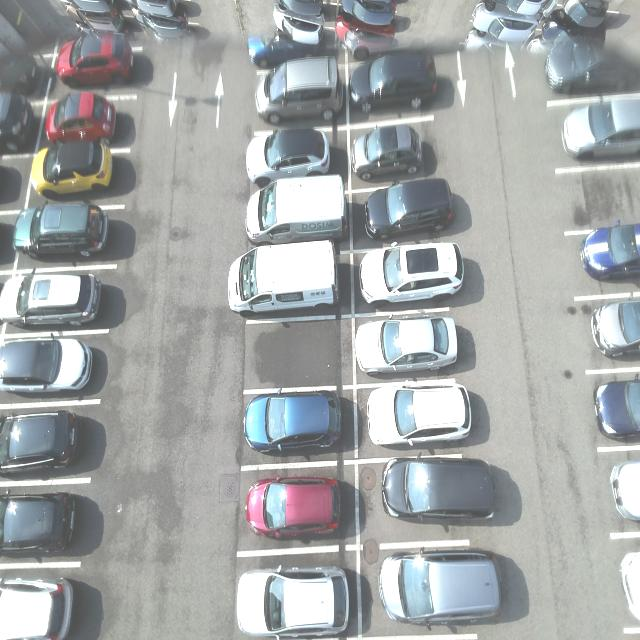car: (379, 549, 506, 630), (229, 241, 345, 319), (235, 564, 353, 640), (381, 456, 501, 526), (359, 240, 467, 309), (364, 384, 474, 450), (354, 312, 461, 379), (246, 174, 347, 243), (244, 476, 343, 544), (363, 177, 457, 248), (243, 391, 343, 456), (251, 56, 345, 125), (1, 336, 98, 398), (14, 203, 114, 261), (350, 52, 441, 115), (1, 274, 108, 326), (242, 129, 333, 186), (31, 143, 116, 199), (56, 35, 137, 91), (349, 127, 426, 185), (46, 95, 118, 143)
free_space: (244, 314, 358, 396)
